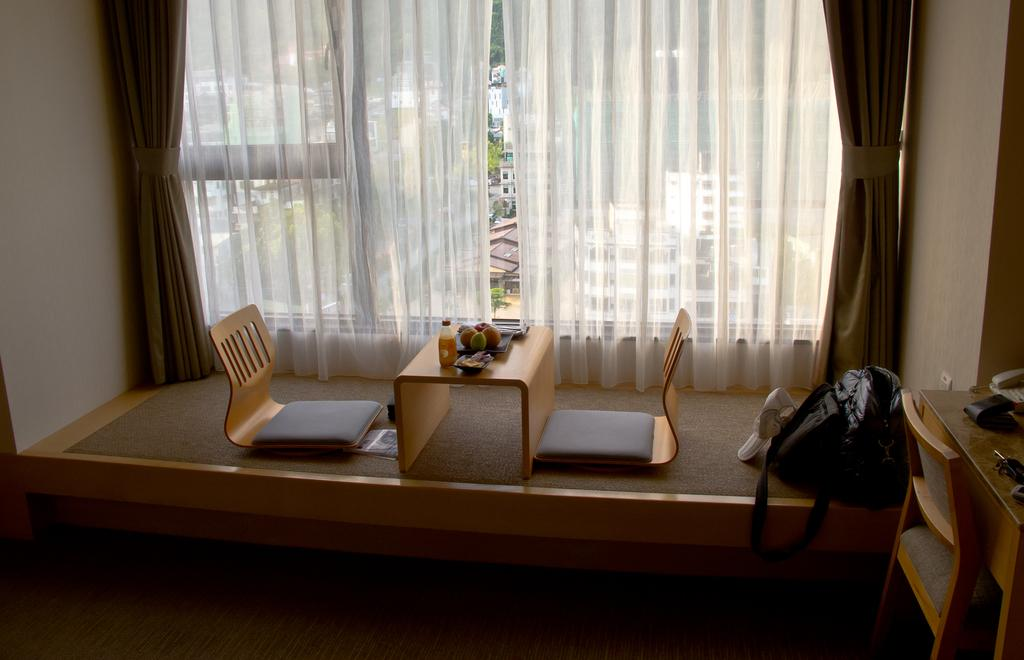Chair: (870, 387, 1003, 659), (208, 303, 382, 453), (533, 307, 692, 469)
Luggage-and-bags: (744, 361, 911, 560)
